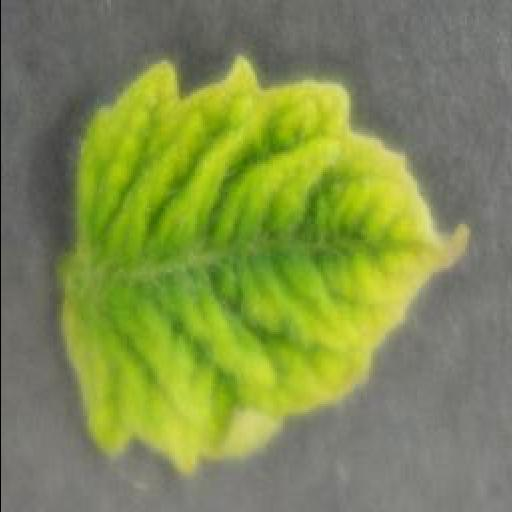disease_tomato: (61, 50, 471, 478)
